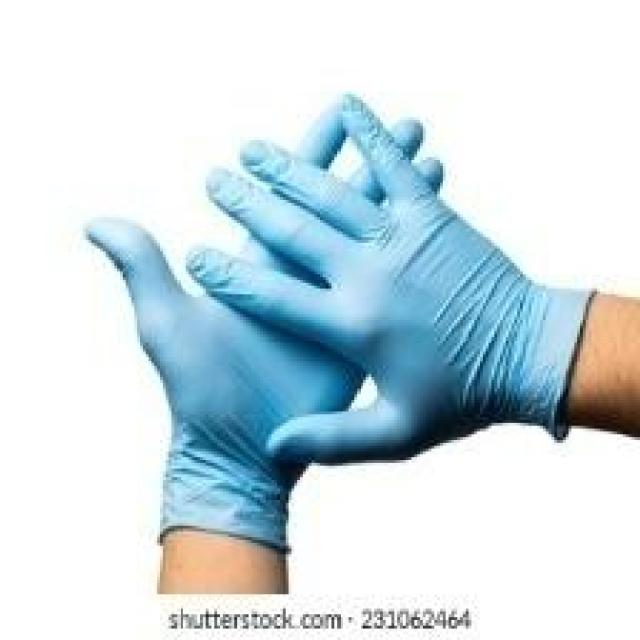Glove: (44, 138, 610, 558)
